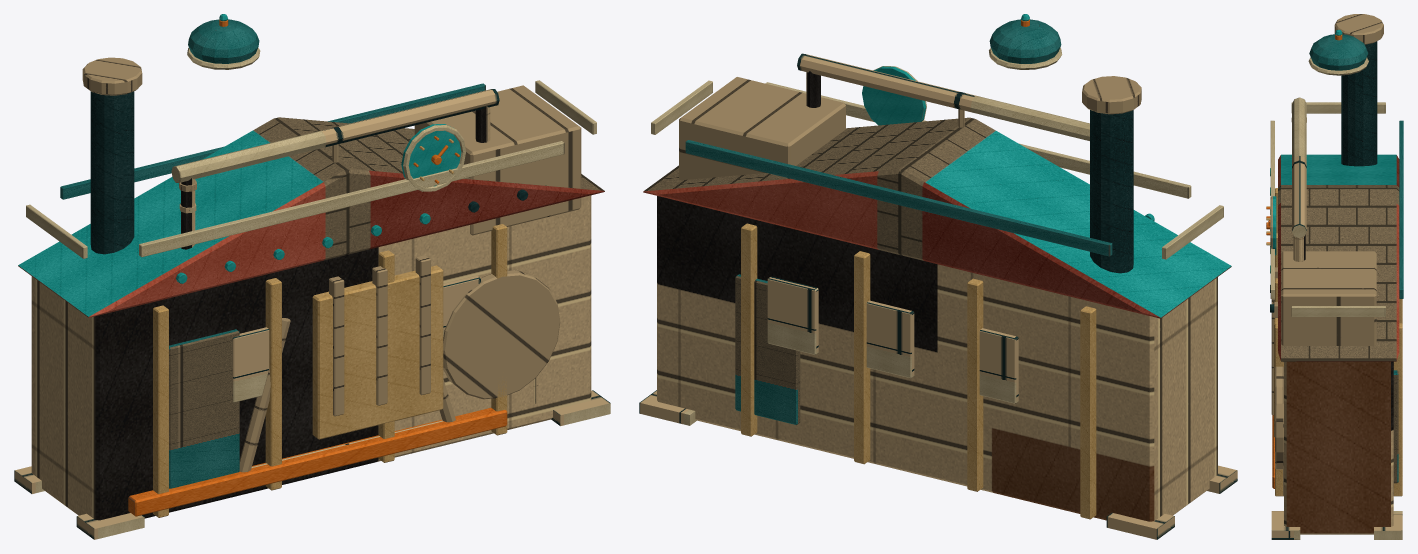
File: stamp-mill.e6.glb
The picture shows the model from 3 angles, left to right: view 1: azimuth 30°, elevation 25°; view 2: azimuth 150°, elevation 25°; view 3: azimuth 270°, elevation 25°; orthographic projection. The views are drawn at different scales.
Visible parts, largest first — view 1: AtomicDrydockWorksE6; view 2: AtomicDrydockWorksE6; view 3: AtomicDrydockWorksE6.
Boxes of the visible parts, left/top/right/bottom form: AtomicDrydockWorksE6: left=14, top=14, right=610, bottom=539; AtomicDrydockWorksE6: left=639, top=14, right=1237, bottom=539; AtomicDrydockWorksE6: left=1266, top=14, right=1403, bottom=539.
Bounding box in the file's own units: 5.95 × 5 × 1.68.
Materials: 1 (1 with a texture image).
